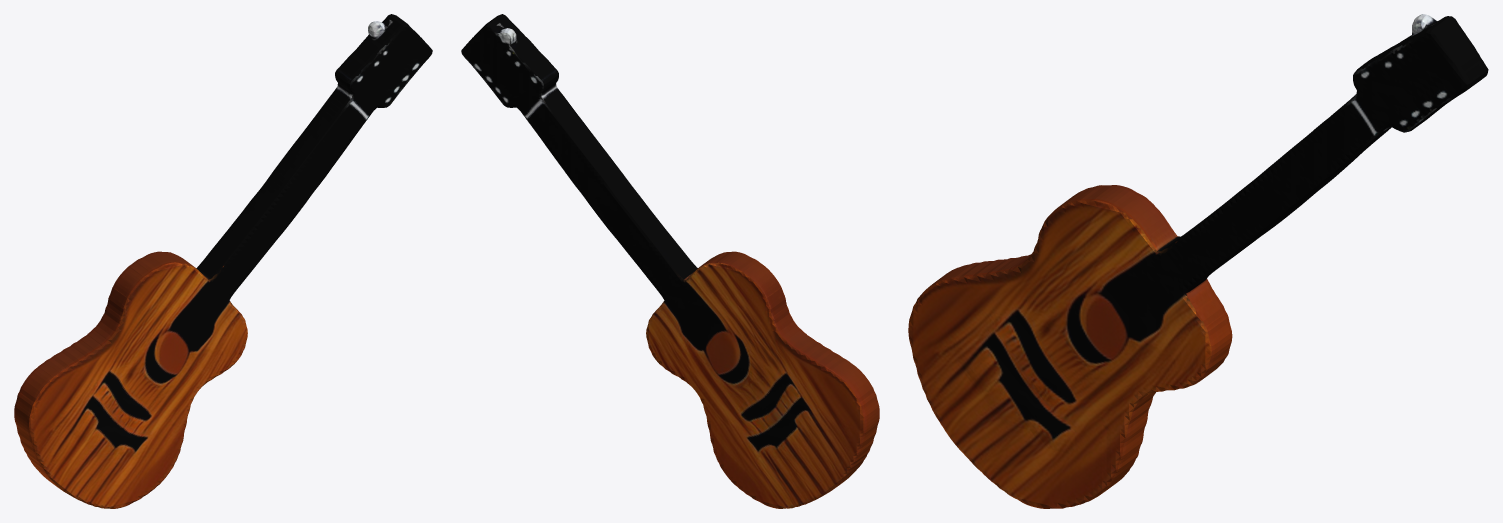
Rendered from guitar1.glb.
3 views of the same model, side by side, from view 1: azimuth 30°, elevation 25°; view 2: azimuth 150°, elevation 25°; view 3: azimuth 330°, elevation 25° (orthographic). The views are drawn at different scales.
Parts seen in each view (by area): view 1: tmpg2emr6_s.ply; view 2: tmpg2emr6_s.ply; view 3: tmpg2emr6_s.ply.
Boxes of the visible parts, x1,y1,x2,y2 form: tmpg2emr6_s.ply: (14,14,432,508); tmpg2emr6_s.ply: (461,14,879,508); tmpg2emr6_s.ply: (908,14,1488,508).
Size of the model in its own units: 1.95 by 1.91 by 0.1425.
1 material, 1 textured.
